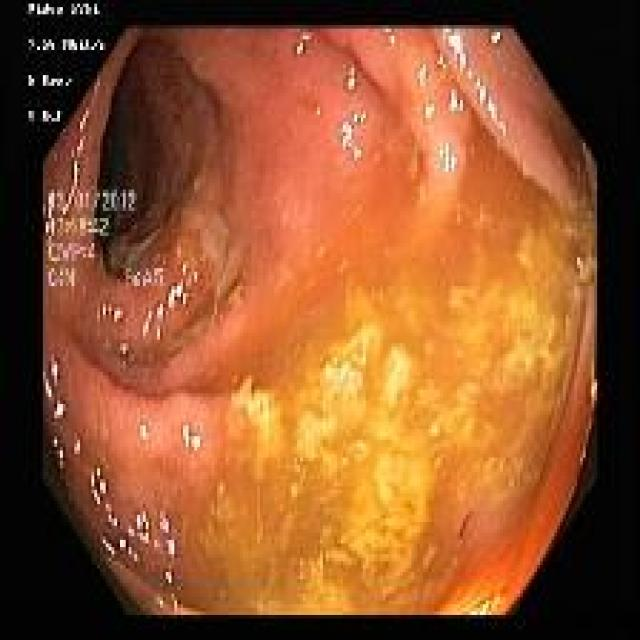ulcerative-colitis: (42, 27, 596, 615)
